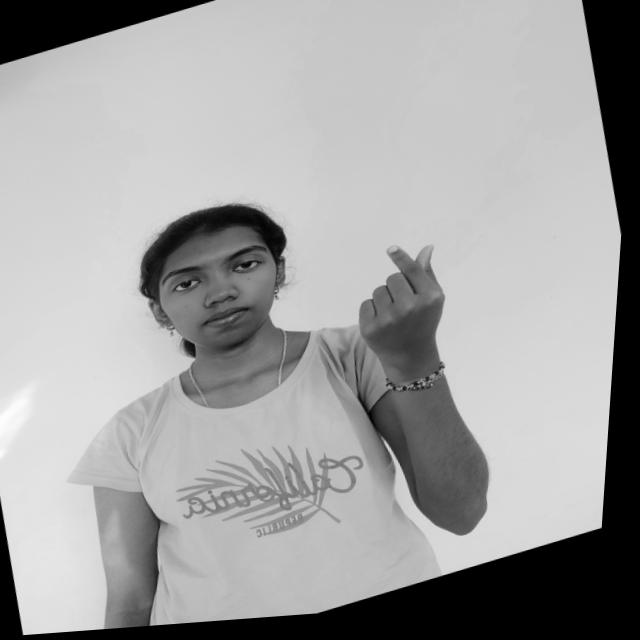Grattitude: (334, 225, 482, 394)
